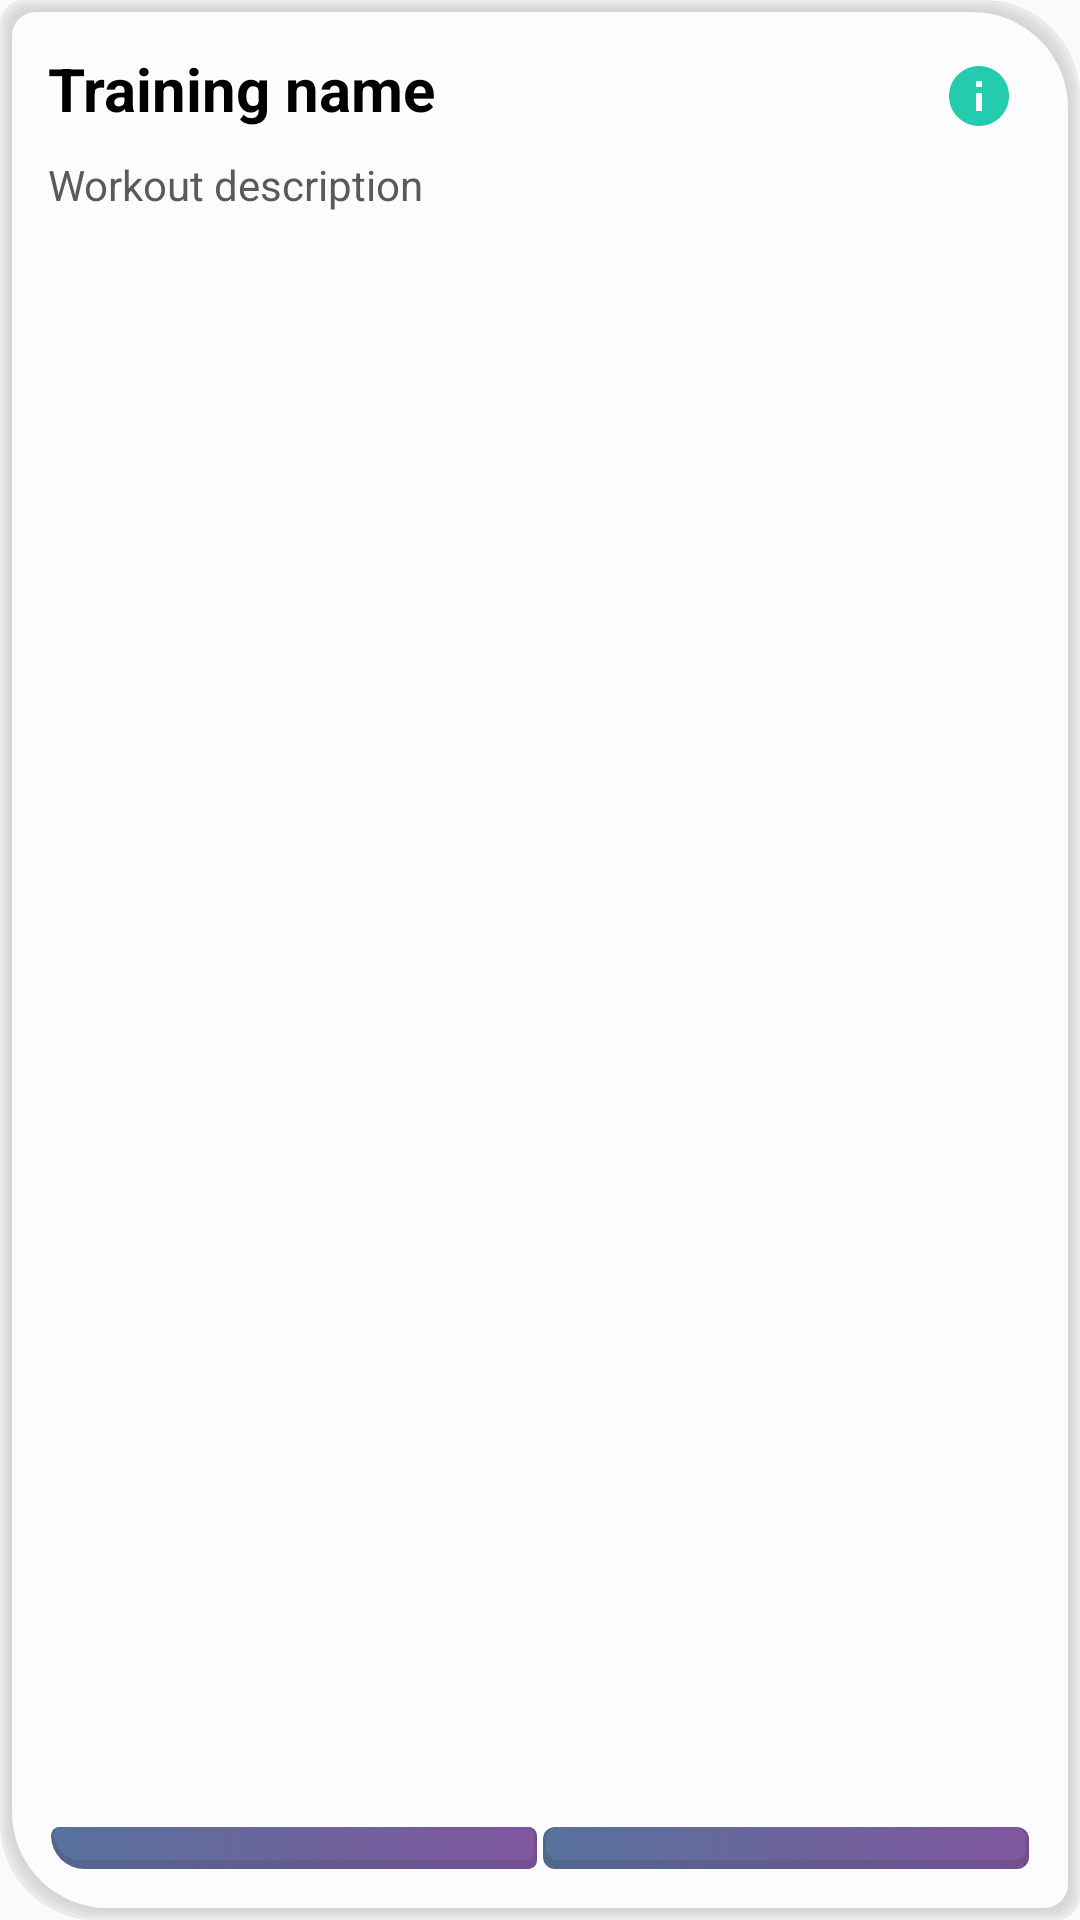

Named icons in this screenshot (1080×1920) and their bounding boxes, detection(x1, y1, x2, y2):
details: detection(949, 66, 1009, 126)
